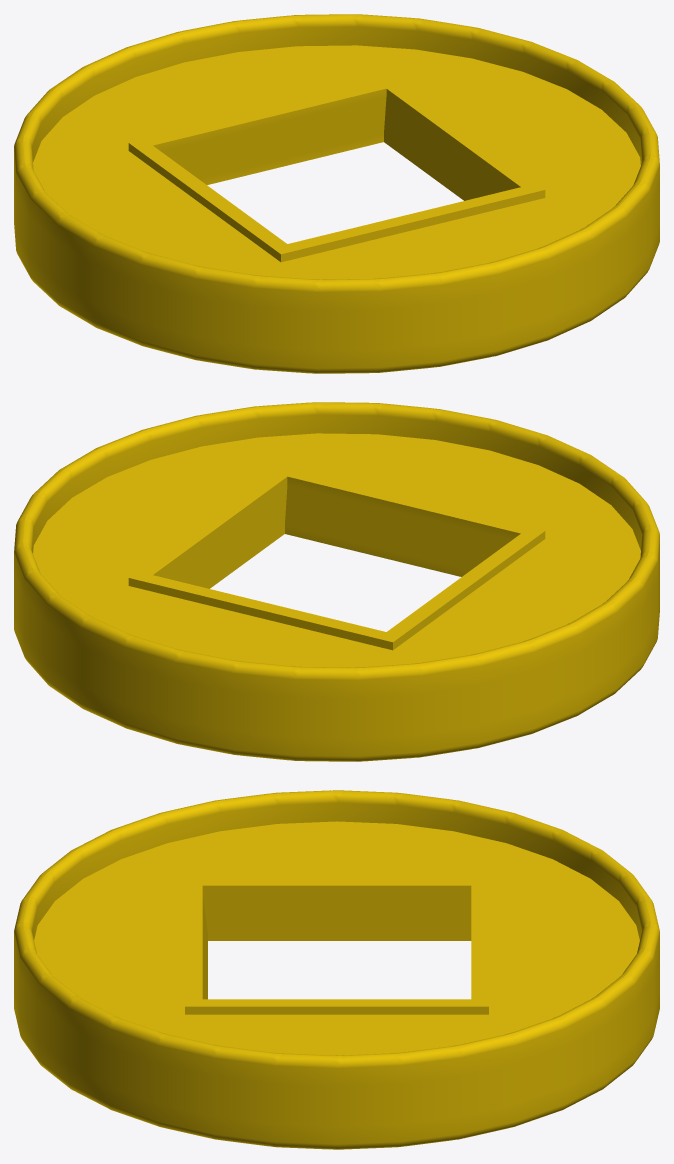
Rendered from Coin.fbx.
The picture shows the model from 3 angles, top to bottom: view 1: azimuth 30°, elevation 25°; view 2: azimuth 150°, elevation 25°; view 3: azimuth 270°, elevation 25°; orthographic projection.
Visible parts, largest first — view 1: 柱体; view 2: 柱体; view 3: 柱体.
Part boxes in pixels (x1,y1,x2,y2): 柱体: [14, 14, 659, 373]; 柱体: [14, 402, 659, 761]; 柱体: [14, 790, 659, 1149].
Bounding box in the file's own units: 109 × 17.34 × 109.
